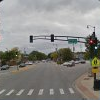crosswalk: (0, 87, 74, 95)
